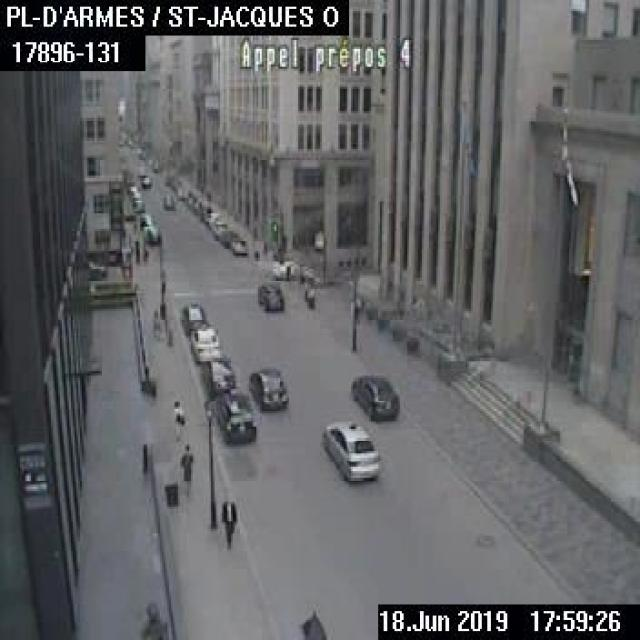pedestrian: (176, 442, 193, 498), (220, 491, 235, 551), (171, 393, 184, 431), (132, 236, 139, 262), (140, 245, 146, 261)
vehicle: (320, 413, 378, 478), (349, 367, 398, 420), (209, 388, 256, 442), (246, 366, 288, 406), (202, 354, 234, 392), (189, 323, 217, 359), (254, 280, 284, 311), (180, 300, 203, 334), (273, 258, 312, 278), (85, 256, 106, 278), (232, 236, 246, 256), (143, 226, 158, 244), (138, 212, 153, 228), (160, 193, 173, 209), (130, 197, 144, 210), (139, 175, 151, 187)
